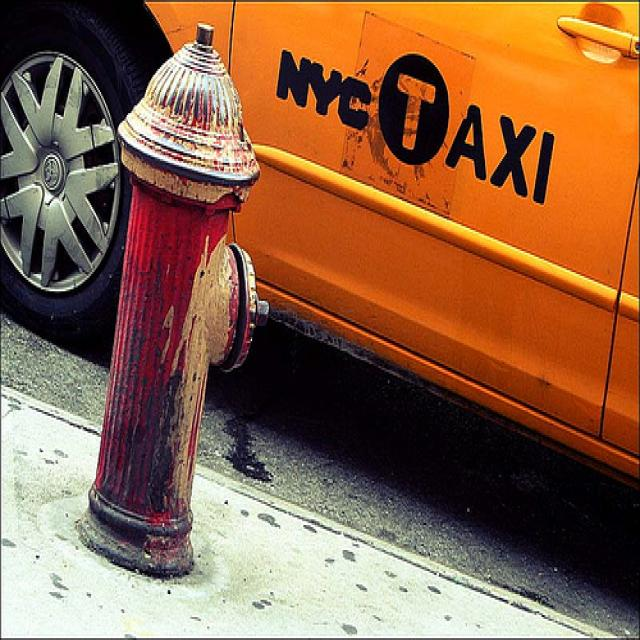Vehicle: (0, 1, 640, 496)
